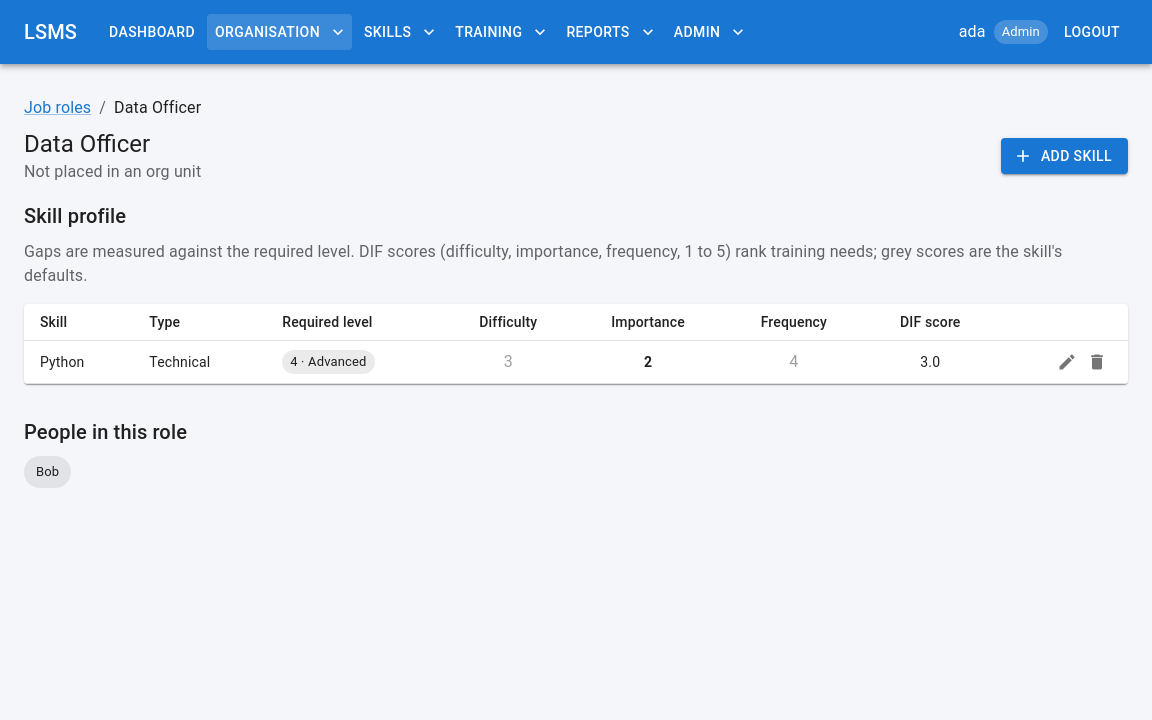
job roles link to a role profile that shows required levels and DIF
The image size is (1152, 720).
expect the text "4 · Advanced" is shown: met, box [290,354,367,369]
expect the text "2" is shown: met, box [644,354,652,370]
Click the button "Add skill": (1064, 156) [1001,138,1128,174]
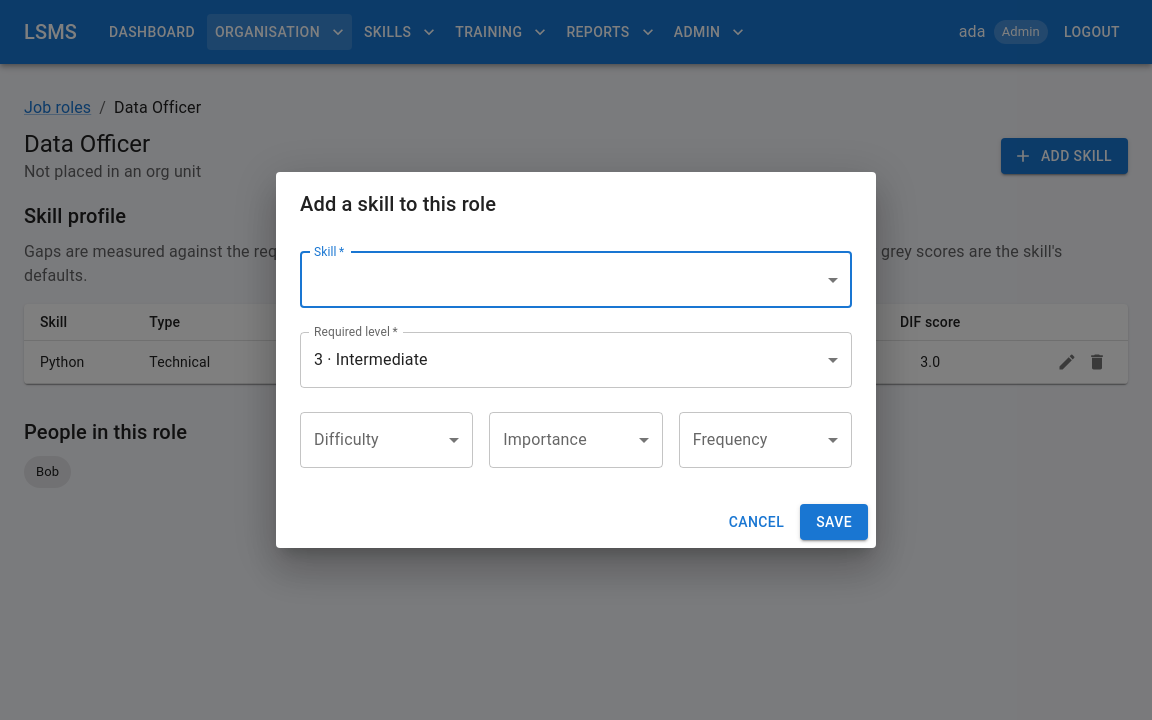
Press the mouse on the 1st dropdown named "skill": (576, 280) [300,252,852,308]
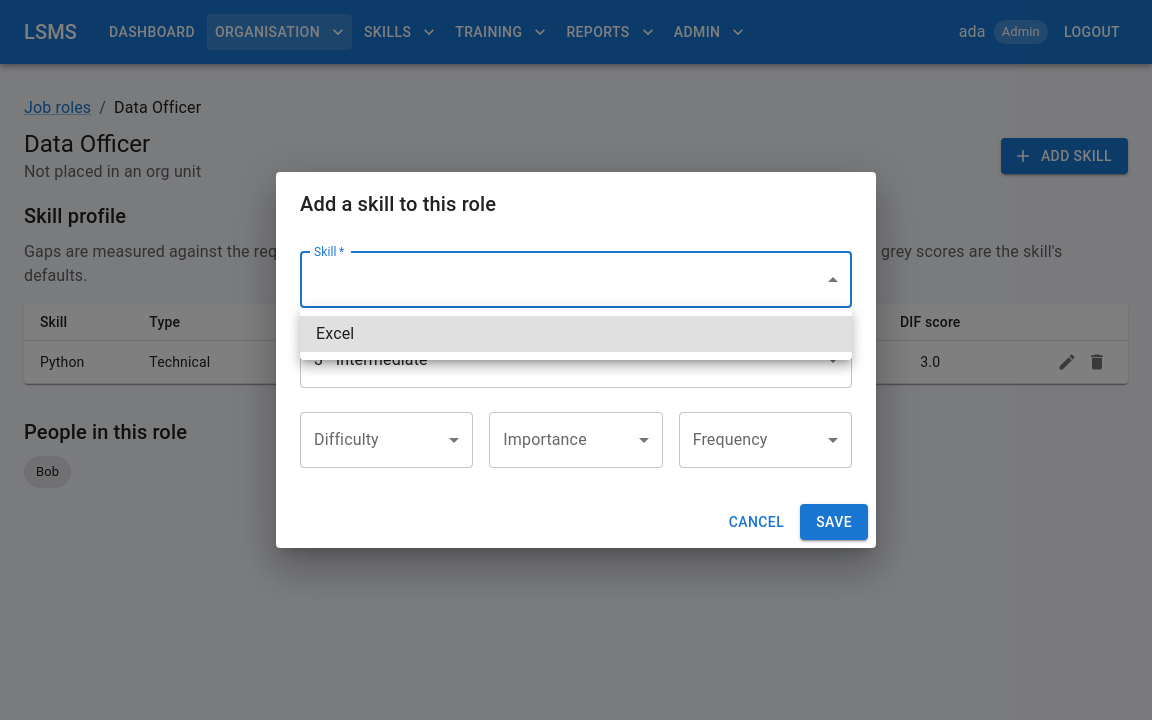
expect the option "Excel" is shown: met, box [300,316,852,352]
